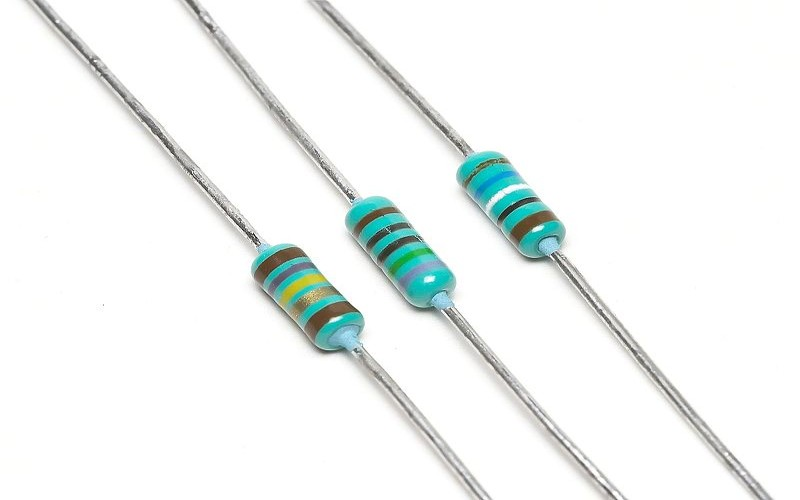Resistor: (227, 111, 599, 373)
